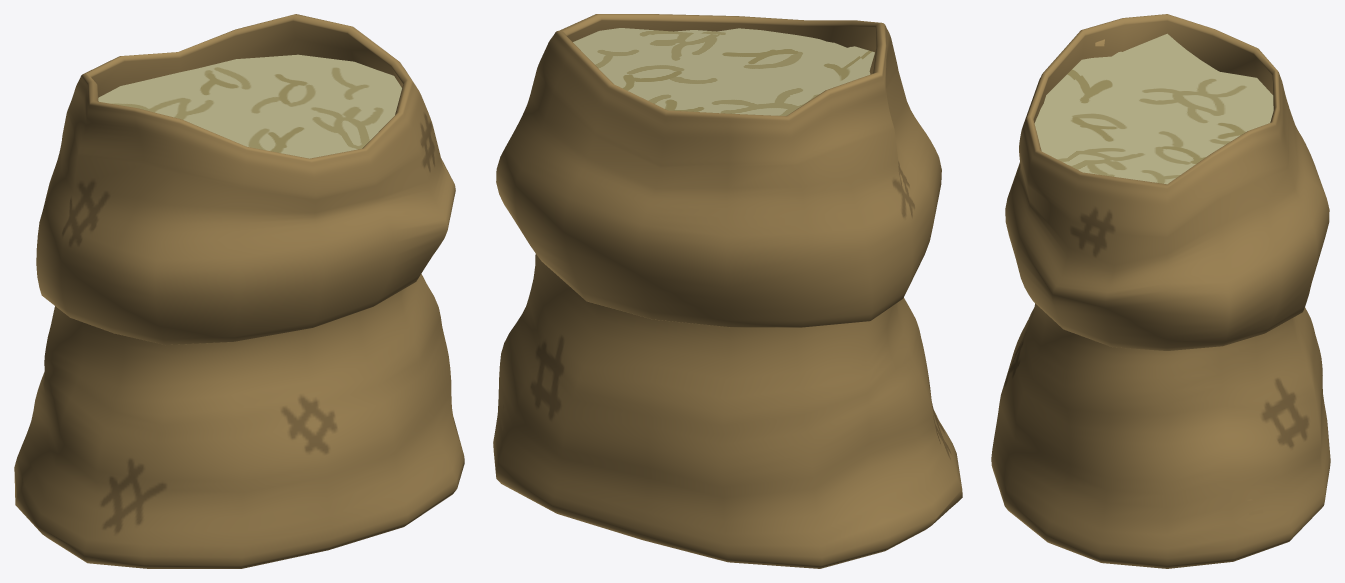
The model's file is SeedBag.FBX.
3 views of the same model, side by side, from view 1: azimuth 30°, elevation 25°; view 2: azimuth 150°, elevation 25°; view 3: azimuth 270°, elevation 25° (orthographic). The views are drawn at different scales.
Parts seen in each view (by area): view 1: Line005, Circle001; view 2: Line005, Circle001; view 3: Line005, Circle001.
Boxes of the visible parts, x1,y1,x2,y2 form: Line005: (14, 14, 464, 568); Circle001: (98, 54, 401, 158); Line005: (493, 14, 962, 568); Circle001: (573, 28, 874, 115); Line005: (991, 14, 1330, 568); Circle001: (1034, 33, 1273, 184).
Bounding box in the file's own units: 61.38 × 61.65 × 46.47.
2 materials, 2 textured.
